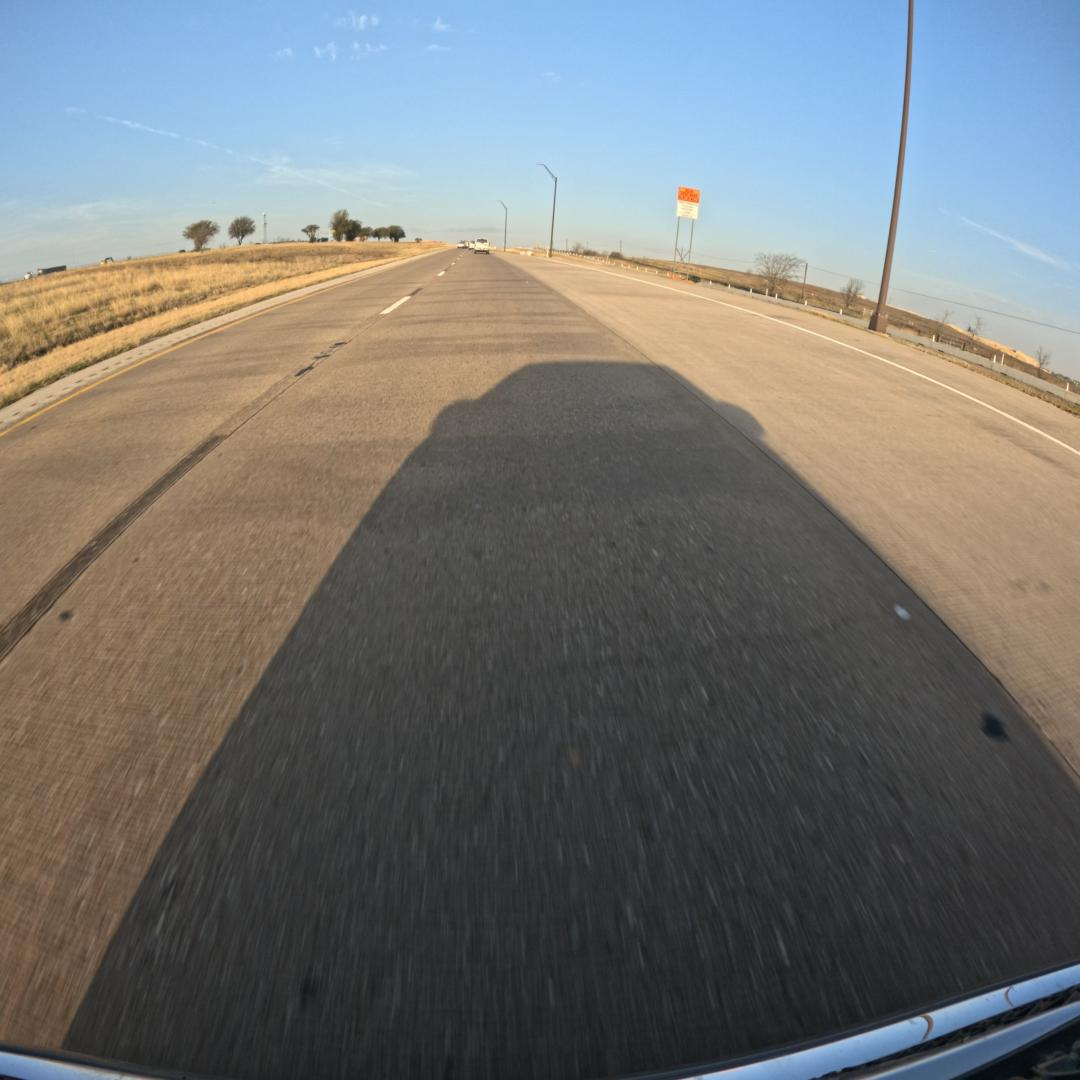lane0: (0, 257, 1080, 1077)
lane1: (0, 250, 460, 665)
